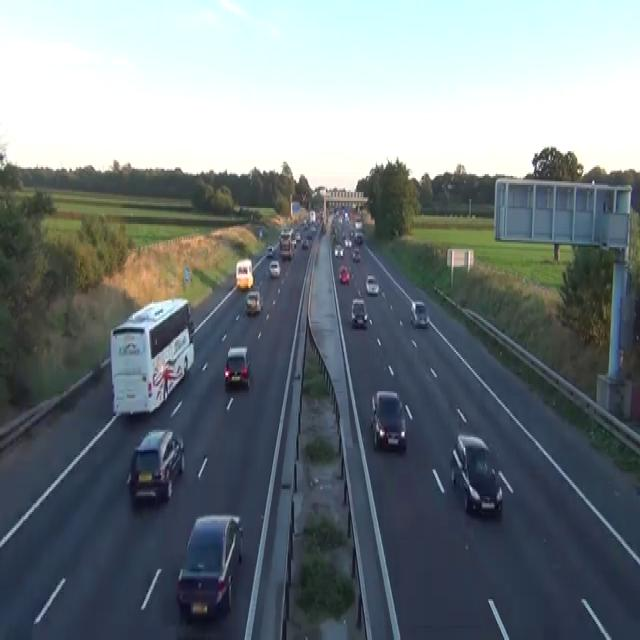Car: (176, 514, 243, 618), (125, 427, 185, 505), (450, 434, 502, 516), (331, 207, 363, 284), (370, 389, 406, 450), (224, 345, 250, 387), (410, 299, 429, 327), (351, 297, 368, 327), (244, 290, 263, 314), (365, 274, 379, 295), (338, 265, 350, 284), (269, 260, 280, 278), (334, 244, 343, 258), (352, 247, 360, 261), (314, 243, 319, 265), (354, 231, 362, 244), (266, 244, 273, 258), (301, 238, 308, 249), (344, 238, 352, 247), (290, 238, 296, 249), (309, 222, 316, 231), (302, 218, 308, 228), (306, 230, 313, 238), (295, 231, 300, 242), (322, 222, 326, 233), (258, 228, 262, 238)
Truck: (109, 297, 195, 416), (235, 258, 253, 290)
